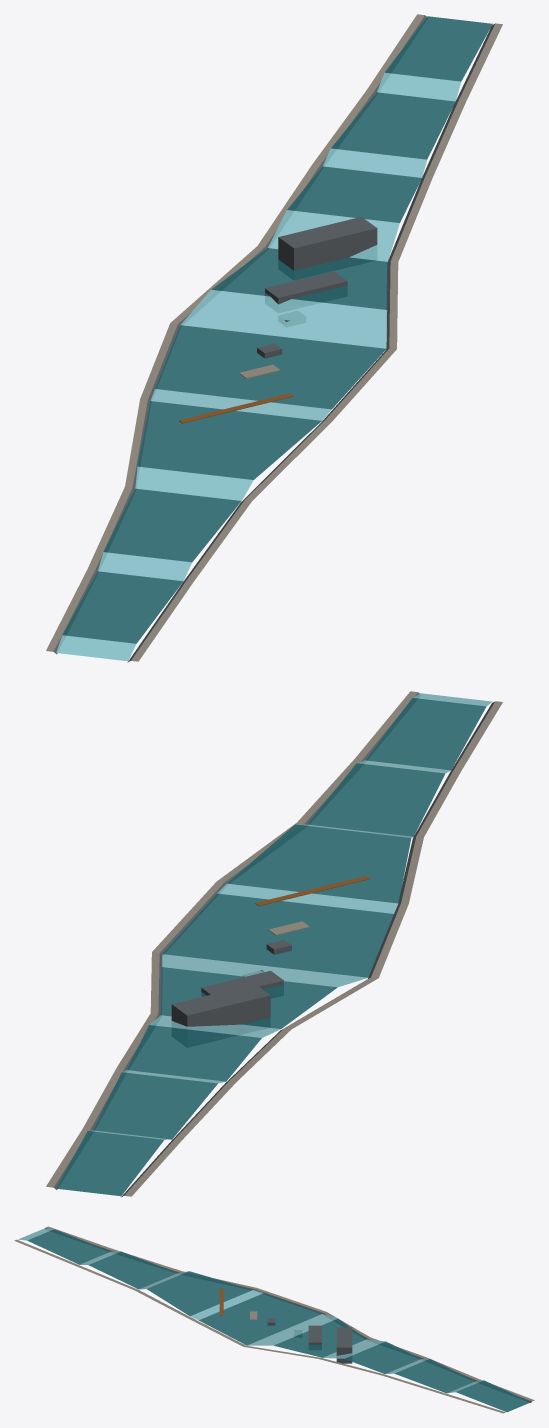
The model's file is water_thac_phu_son_lam_ha.glb.
3 views of the same model, one above another, from view 1: azimuth 30°, elevation 25°; view 2: azimuth 210°, elevation 25°; view 3: azimuth 270°, elevation 25° (orthographic). The views are drawn at different scales.
Parts seen in each view (by area): view 1: water_terraces_water_thac_phu_son_lam_ha, waterfall_curtain_water_thac_phu_son_lam_ha, canyon_walkway_water_thac_phu_son_lam_ha, phu_son_three_tier_basalt_granite_cliff, basalt_canyon_embankments_water_thac_phu_son_lam_ha, phu_son_middle_mossy_terrace_ledge; view 2: water_terraces_water_thac_phu_son_lam_ha, canyon_walkway_water_thac_phu_son_lam_ha, waterfall_curtain_water_thac_phu_son_lam_ha, phu_son_three_tier_basalt_granite_cliff, basalt_canyon_embankments_water_thac_phu_son_lam_ha, phu_son_middle_mossy_terrace_ledge; view 3: water_terraces_water_thac_phu_son_lam_ha, waterfall_curtain_water_thac_phu_son_lam_ha, canyon_walkway_water_thac_phu_son_lam_ha, phu_son_three_tier_basalt_granite_cliff, basalt_canyon_embankments_water_thac_phu_son_lam_ha, phu_son_middle_mossy_terrace_ledge.
Part boxes in pixels (left/top/right/bottom): water_terraces_water_thac_phu_son_lam_ha: left=62, top=16, right=492, bottom=643; waterfall_curtain_water_thac_phu_son_lam_ha: left=56, top=72, right=460, bottom=661; canyon_walkway_water_thac_phu_son_lam_ha: left=46, top=14, right=502, bottom=661; phu_son_three_tier_basalt_granite_cliff: left=278, top=217, right=377, bottom=270; basalt_canyon_embankments_water_thac_phu_son_lam_ha: left=53, top=15, right=494, bottom=662; phu_son_middle_mossy_terrace_ledge: left=265, top=271, right=347, bottom=304; water_terraces_water_thac_phu_son_lam_ha: left=56, top=698, right=486, bottom=1196; canyon_walkway_water_thac_phu_son_lam_ha: left=46, top=691, right=502, bottom=1196; waterfall_curtain_water_thac_phu_son_lam_ha: left=88, top=693, right=492, bottom=1139; phu_son_three_tier_basalt_granite_cliff: left=171, top=984, right=270, bottom=1026; basalt_canyon_embankments_water_thac_phu_son_lam_ha: left=53, top=692, right=494, bottom=1197; phu_son_middle_mossy_terrace_ledge: left=201, top=970, right=283, bottom=995; water_terraces_water_thac_phu_son_lam_ha: left=27, top=1229, right=530, bottom=1412; waterfall_curtain_water_thac_phu_son_lam_ha: left=18, top=1228, right=483, bottom=1393; canyon_walkway_water_thac_phu_son_lam_ha: left=14, top=1226, right=534, bottom=1413; phu_son_three_tier_basalt_granite_cliff: left=336, top=1327, right=352, bottom=1363; basalt_canyon_embankments_water_thac_phu_son_lam_ha: left=45, top=1227, right=531, bottom=1402; phu_son_middle_mossy_terrace_ledge: left=308, top=1325, right=321, bottom=1344.
Bounding box in the file's own units: 592 × 45.45 × 585.
